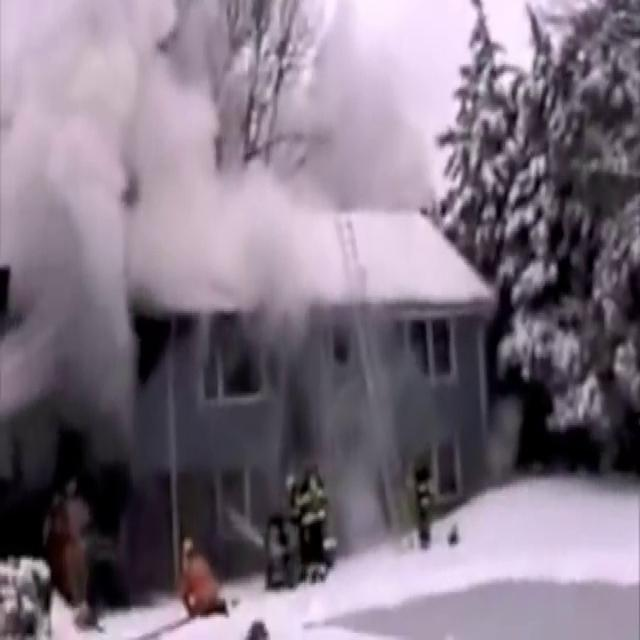Smoke: (0, 4, 506, 575)
